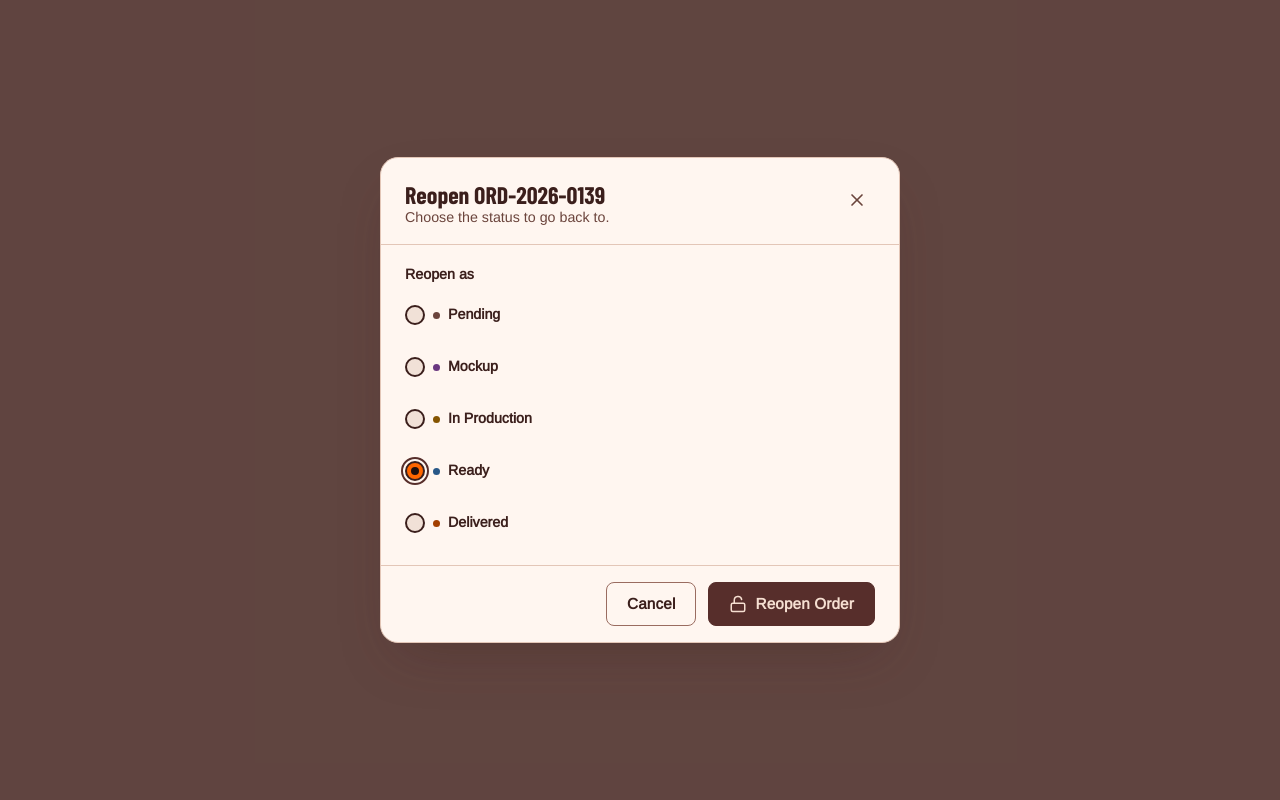
Test: reopening (D-16, 05 D-21) › sends the status that was picked instead, using the wire key of In Production
This screenshot has width=1280, height=800.
Click the radio button labelled "In Production" at (415, 419), box [405,409,425,429]
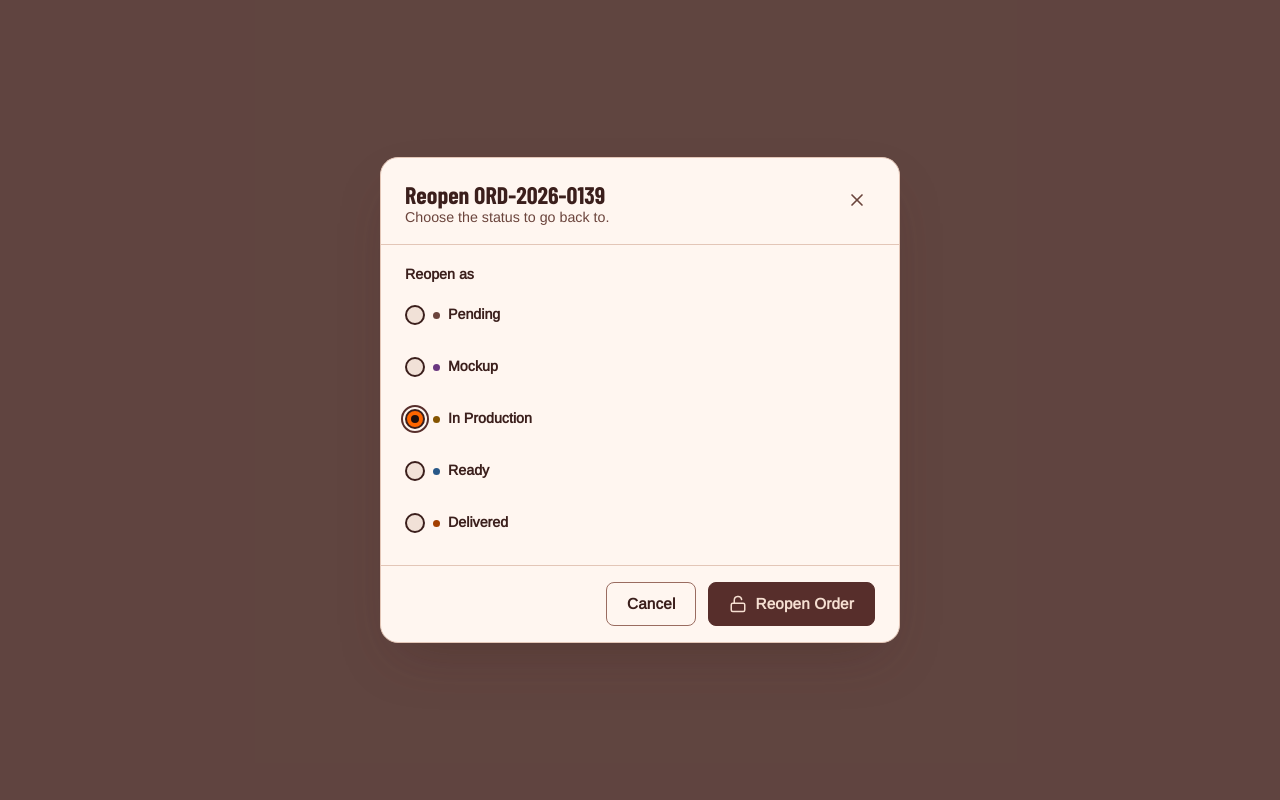
Click the button "Reopen Order" at (792, 604), box [708,582,875,626]
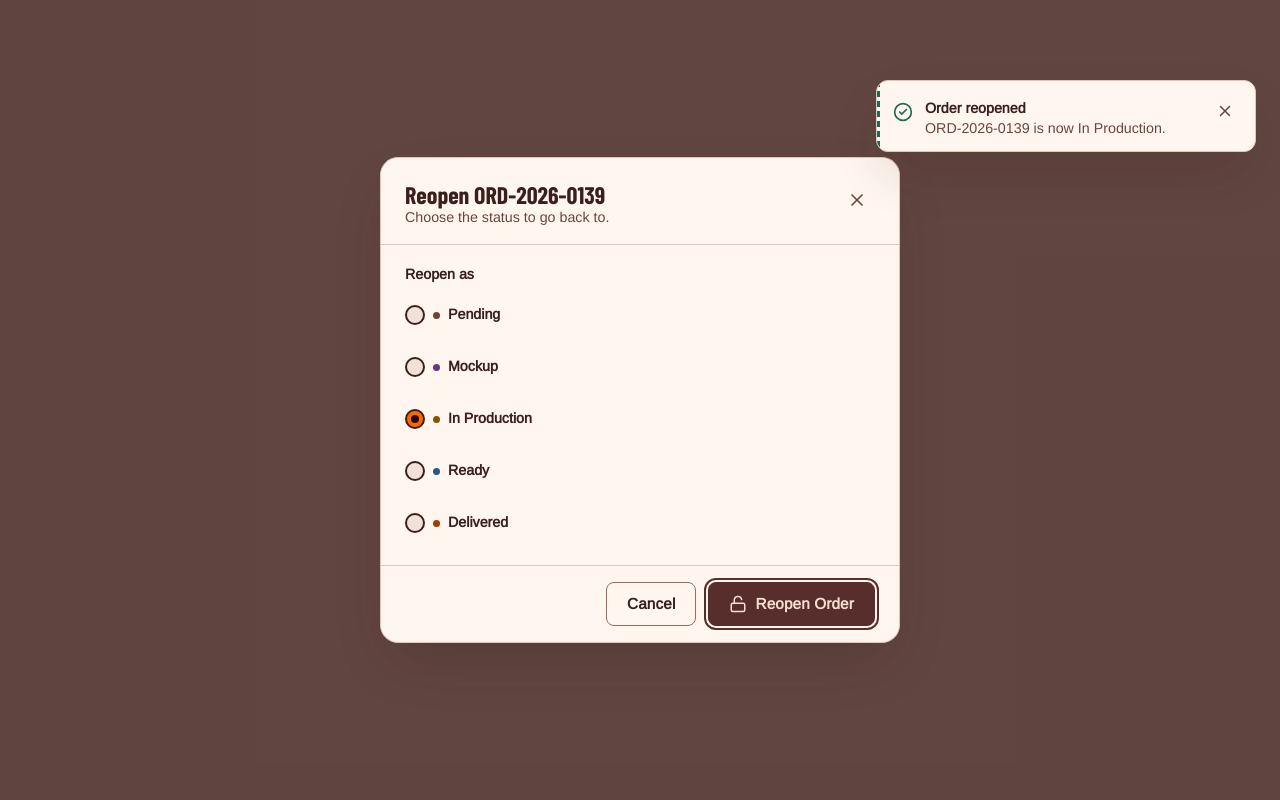
Expected: the text "ORD-2026-0139 is now In Production." is shown, [925,119,1195,139]
